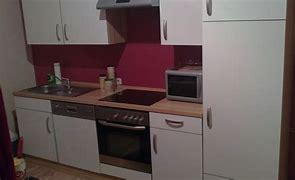cabinet_door: (202, 20, 280, 180), (153, 130, 204, 179), (161, 1, 204, 45), (62, 0, 105, 43), (203, 0, 288, 20), (19, 112, 55, 155), (27, 0, 62, 43), (150, 116, 201, 132), (52, 103, 94, 116), (16, 99, 52, 110)
handle: (99, 120, 146, 134), (206, 106, 214, 130), (152, 134, 161, 155), (43, 117, 53, 135), (165, 118, 184, 127), (205, 0, 215, 17), (53, 23, 61, 42), (63, 23, 70, 41), (163, 20, 169, 41), (63, 107, 78, 114)
